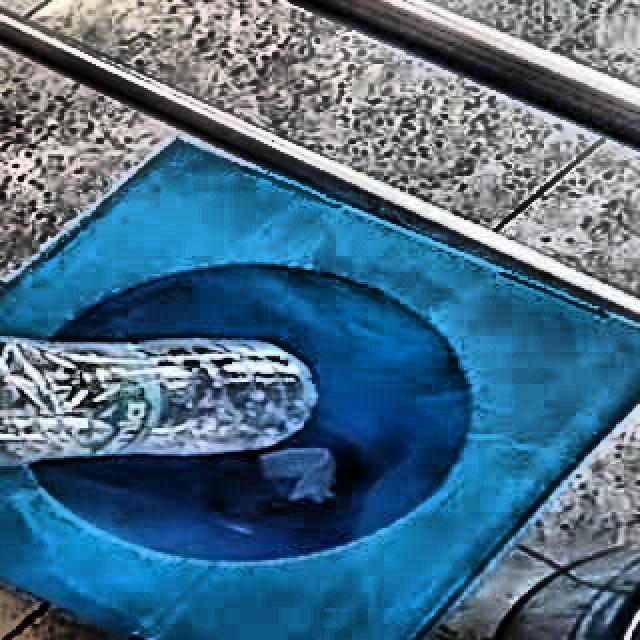plastic: (0, 339, 317, 468)
